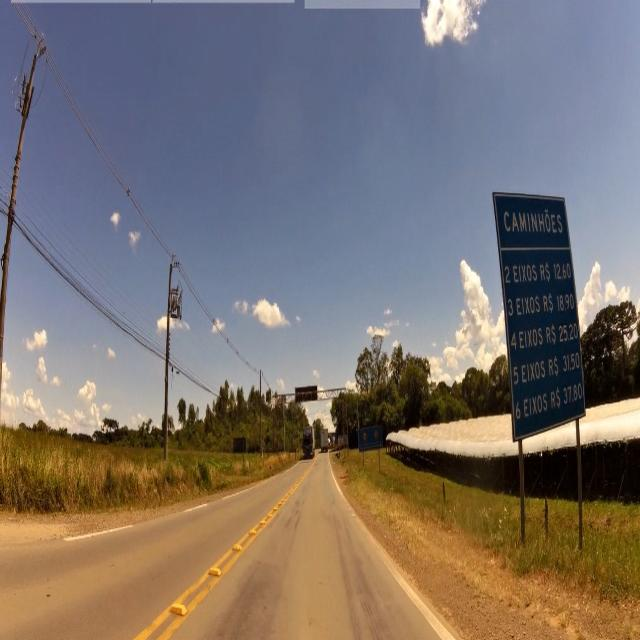LOC-6: (500, 194, 592, 452)
